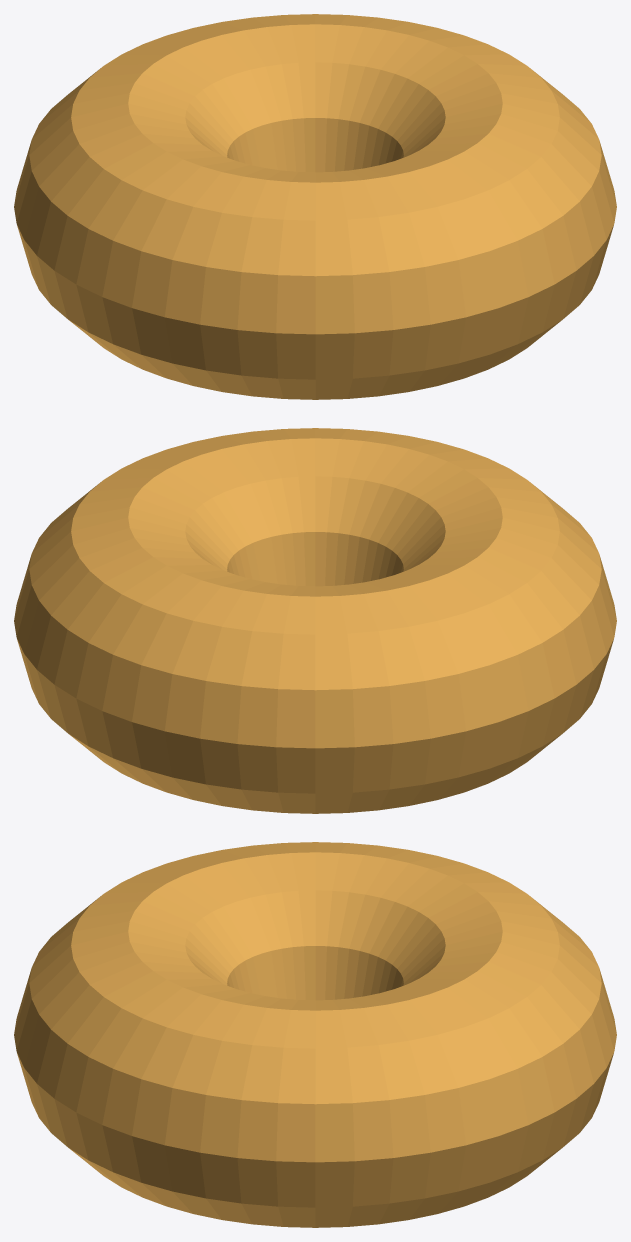
The model's file is DONUT.fbx.
3 renders of one model, top to bottom at view 1: azimuth 30°, elevation 25°; view 2: azimuth 150°, elevation 25°; view 3: azimuth 270°, elevation 25°, orthographic.
Visible parts, largest first — view 1: Torus; view 2: Torus; view 3: Torus.
Part boxes in pixels (left/top/right/bottom): Torus: left=14, top=14, right=616, bottom=399; Torus: left=14, top=428, right=616, bottom=813; Torus: left=14, top=842, right=616, bottom=1227.
Size of the model in its own units: 132 by 50 by 132.
